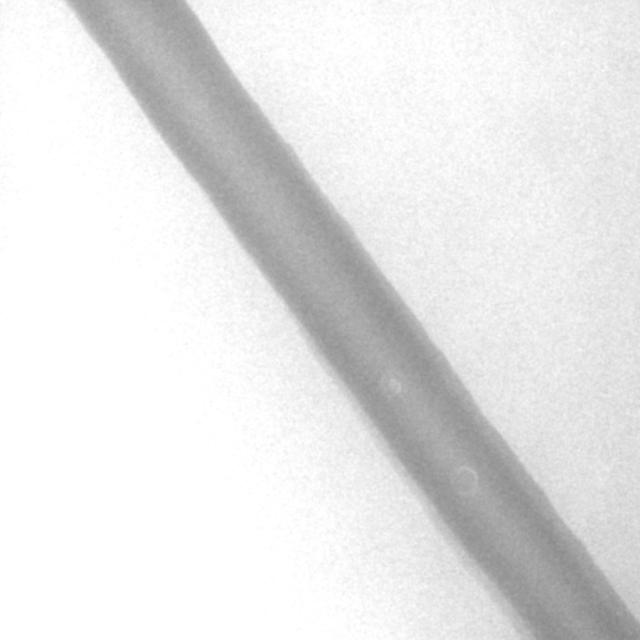hollow bead: (449, 463, 479, 499)
